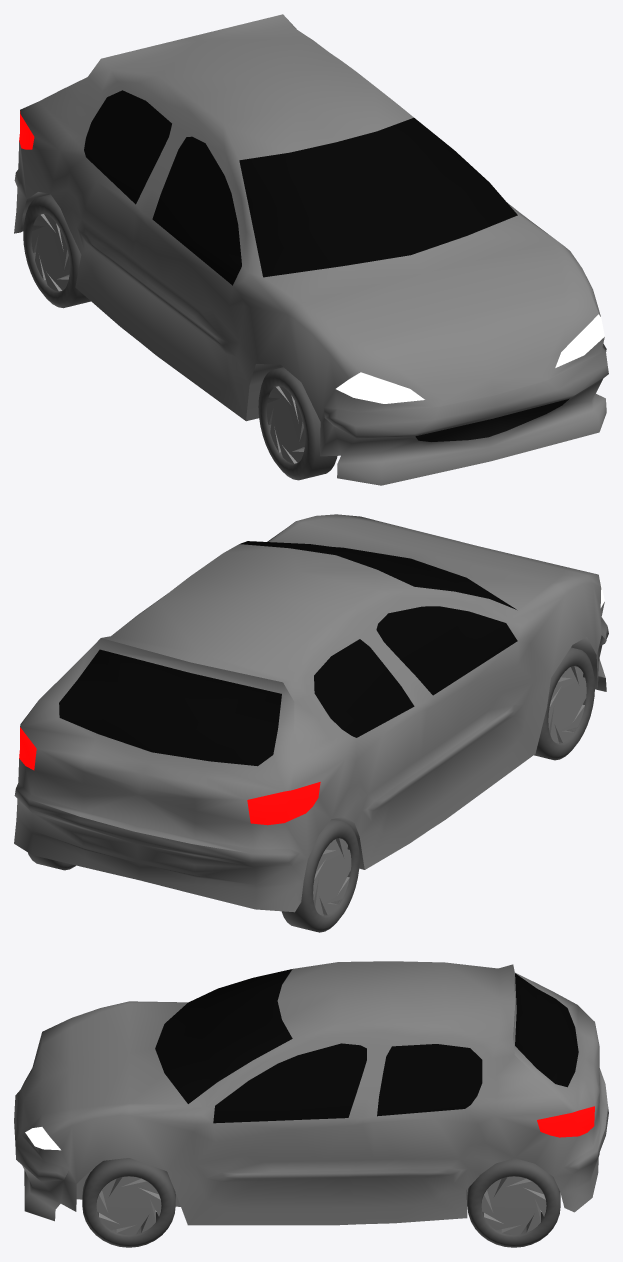
The model's file is car_p206.glb.
3 renders of one model, top to bottom at view 1: azimuth 30°, elevation 25°; view 2: azimuth 150°, elevation 25°; view 3: azimuth 270°, elevation 25°, orthographic. The views are drawn at different scales.
Parts seen in each view (by area): view 1: Cube, Cylinder.003, Cylinder.002; view 2: Cube, Cylinder.002, Cylinder.003; view 3: Cube, Cylinder, Cylinder.001.
Boxes of the visible parts, x1,y1,x2,y2 form: Cube: (14, 14, 608, 485); Cylinder.003: (258, 367, 337, 480); Cylinder.002: (23, 194, 90, 308); Cube: (14, 514, 608, 912); Cylinder.002: (281, 819, 359, 932); Cylinder.003: (534, 647, 594, 760); Cube: (14, 961, 608, 1225); Cylinder: (82, 1158, 175, 1247); Cylinder.001: (467, 1158, 560, 1247).
Bounding box in the file's own units: 0.9342 × 0.736 × 1.98.
